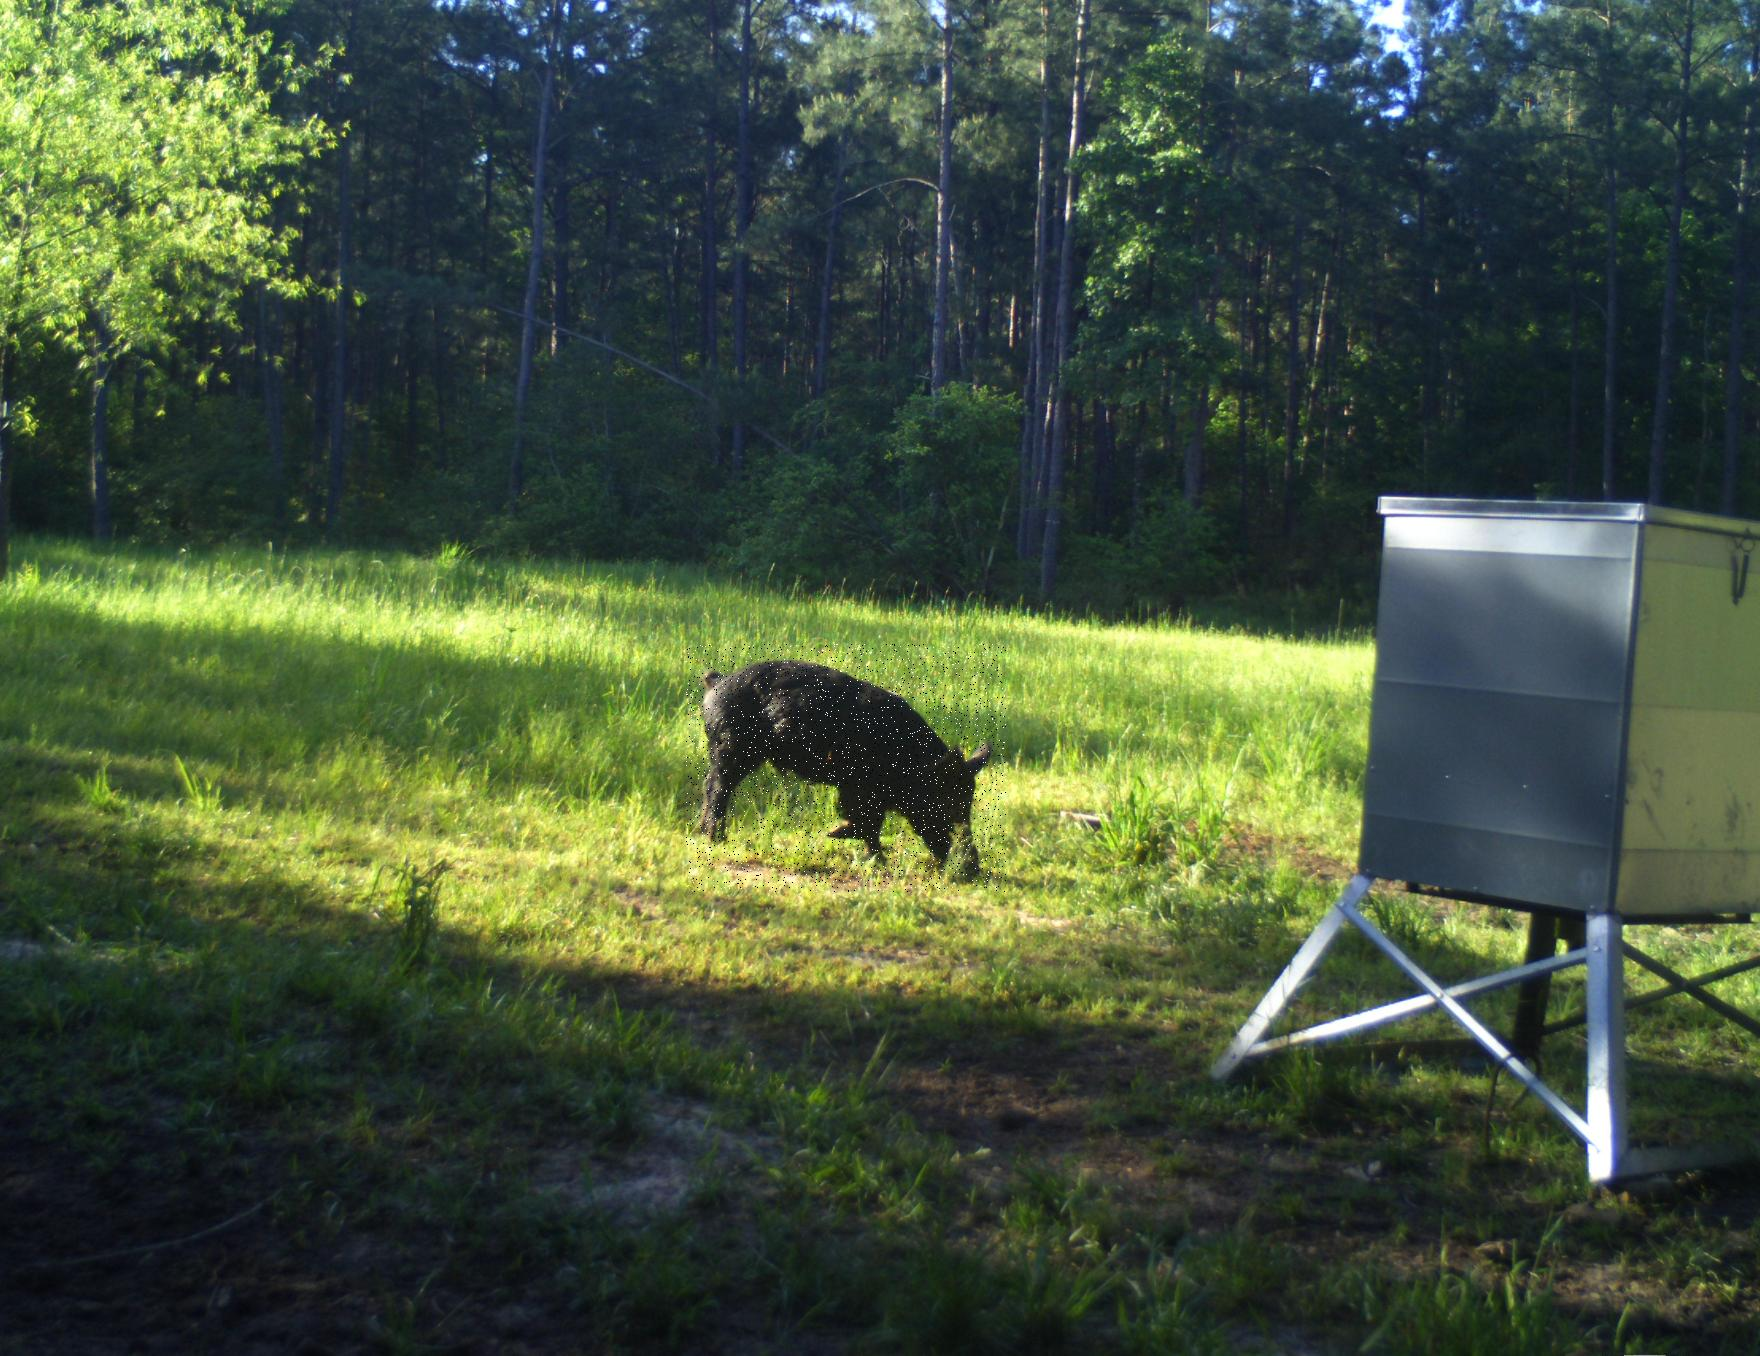Hog: (686, 644, 1007, 892)
